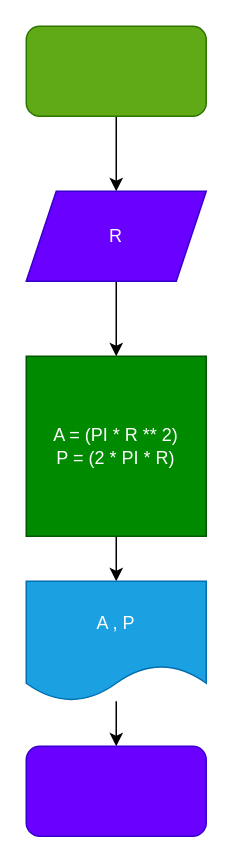
The diagram is 233 pixels wide and 863 high, and some of its shapes have lost their labels. Each missing label, with the centre of its shape:
FIN: pixel 115 790
INICIO: pixel 115 70
